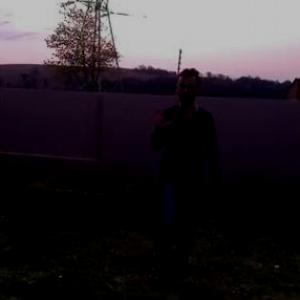follow_hand: (147, 103, 177, 132)
